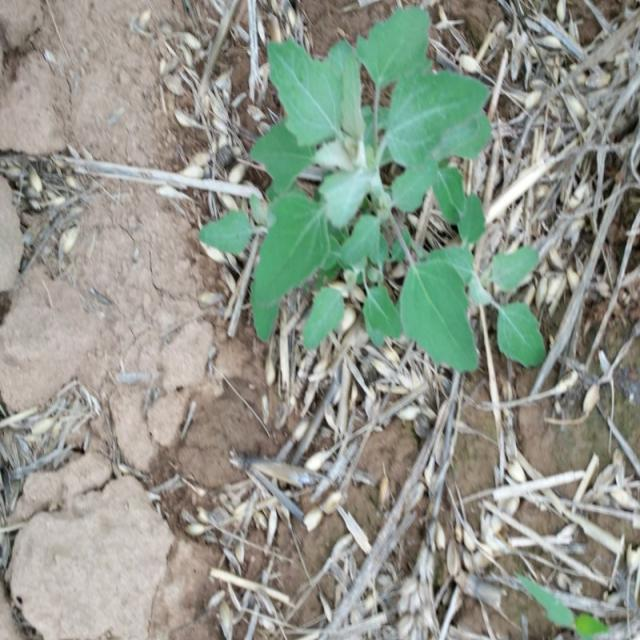goosefoots: (244, 34, 546, 397)
